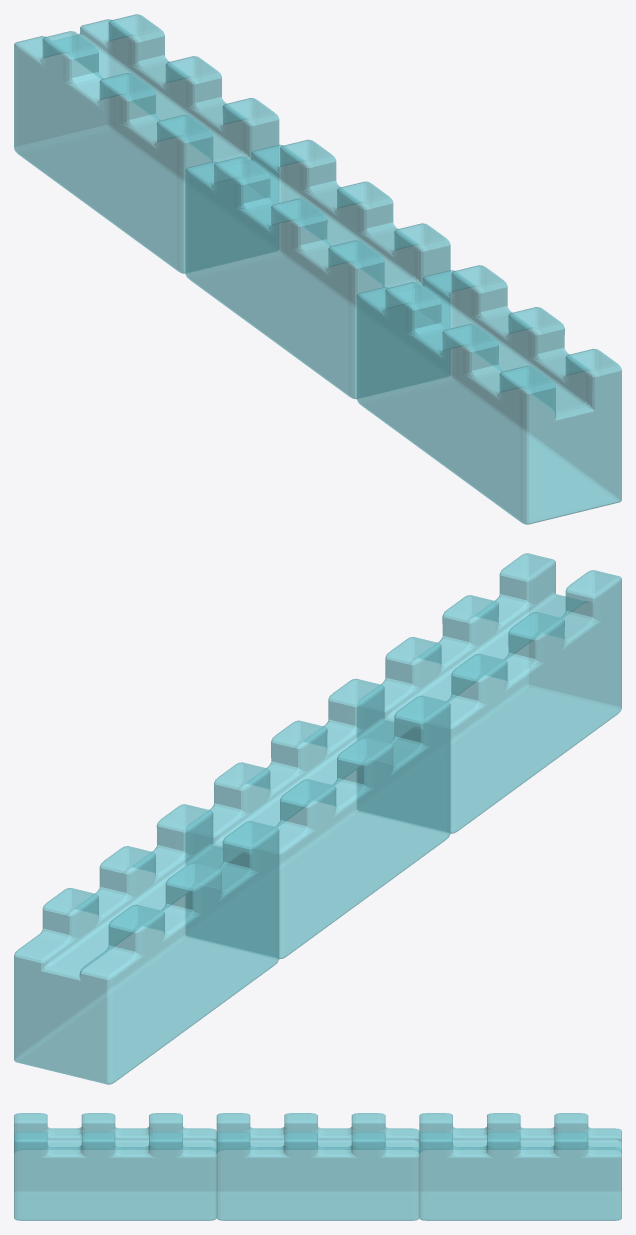
File: block luar ice 9.fbx
3 views of the same model, one above another, from view 1: azimuth 30°, elevation 25°; view 2: azimuth 150°, elevation 25°; view 3: azimuth 270°, elevation 25° (orthographic). The views are drawn at different scales.
Parts seen in each view (by area): view 1: Cube.009; view 2: Cube.009; view 3: Cube.009.
Part boxes in pixels (<box>): Cube.009: <box>14,14,621,524</box>; Cube.009: <box>14,553,621,1084</box>; Cube.009: <box>14,1113,621,1220</box>.
Bounding box in the file's own units: 400 × 531 × 3600.
